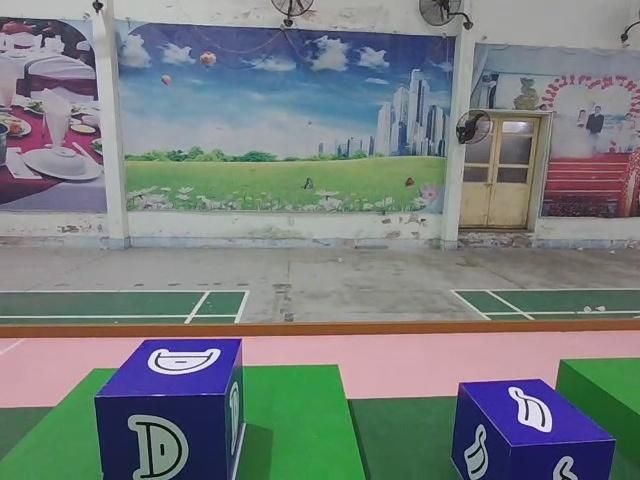R2 Real Blue: (95, 339, 244, 479), (450, 378, 614, 480)
